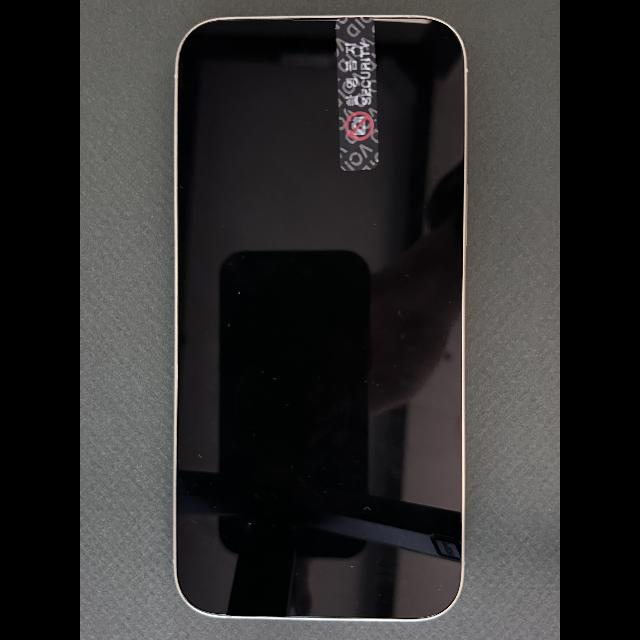phone: (172, 14, 468, 622)
sticker: (335, 17, 380, 171)
